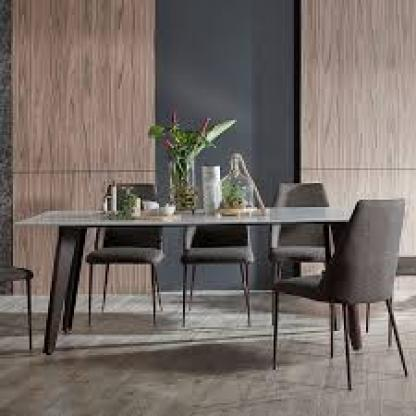Dining Table: (15, 127, 416, 396)
